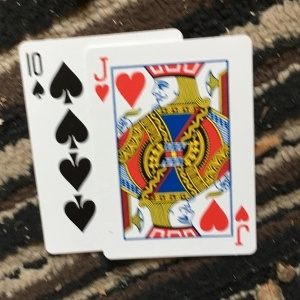card: (93, 38, 258, 262), (18, 39, 98, 252)
